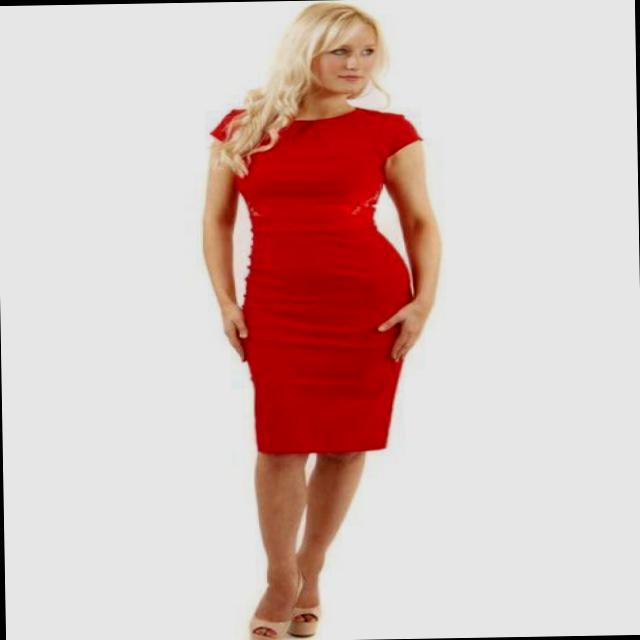dress: (208, 103, 430, 456)
